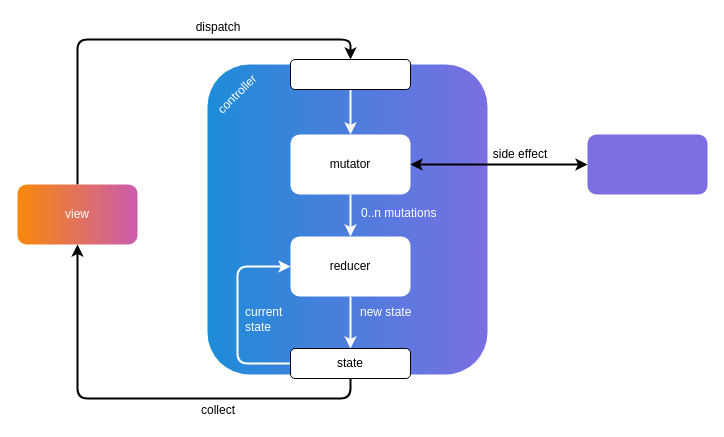
Some shapes in this 724 by 437 pixel diagram are drawn without their labels. The shapes that lost their labels are listed below. From the top down, each one's centre as x and y in pixels, then its label:
pixel 350 74: action
pixel 647 164: service
